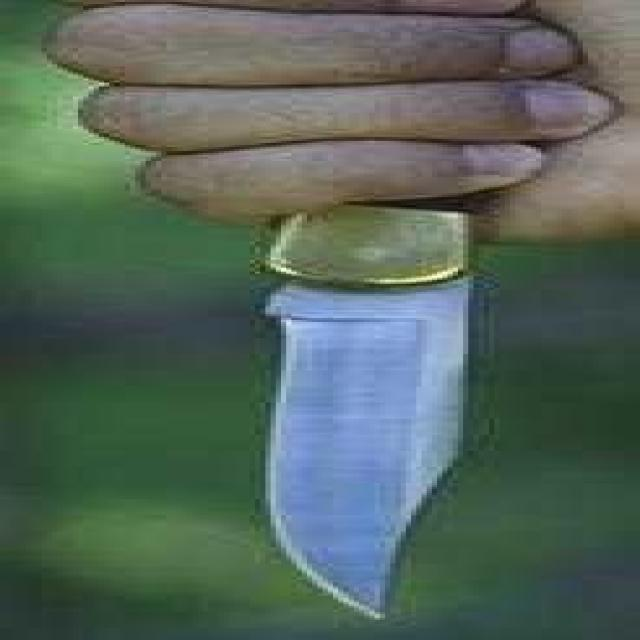weapon: (201, 73, 492, 628)
